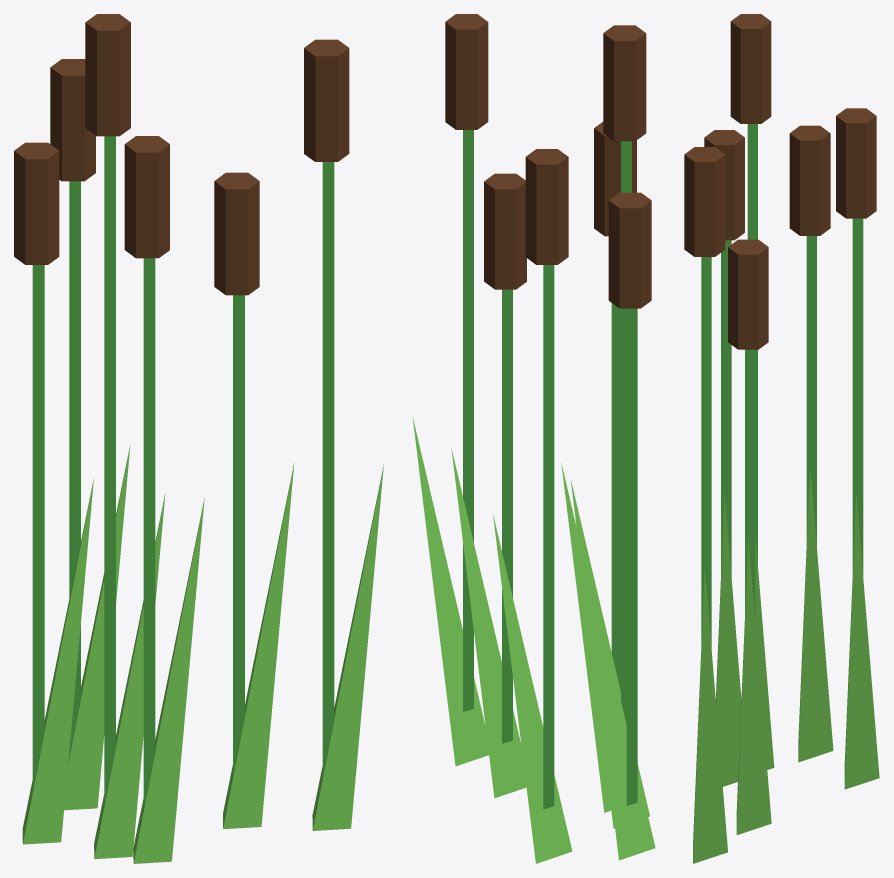
File: prop_cattails.glb
The picture shows the model from 3 angles, left to right: view 1: azimuth 30°, elevation 25°; view 2: azimuth 150°, elevation 25°; view 3: azimuth 270°, elevation 25°; orthographic projection. The views are drawn at different scales.
Parts seen in each view (by area): view 1: prop_cattails; view 2: prop_cattails; view 3: prop_cattails.
Part boxes in pixels (x1,y1,x2,y2): prop_cattails: (14, 14, 383, 863); prop_cattails: (412, 14, 655, 863); prop_cattails: (684, 14, 879, 863).
Size of the model in its own units: 0.55 by 1.42 by 0.3346.
